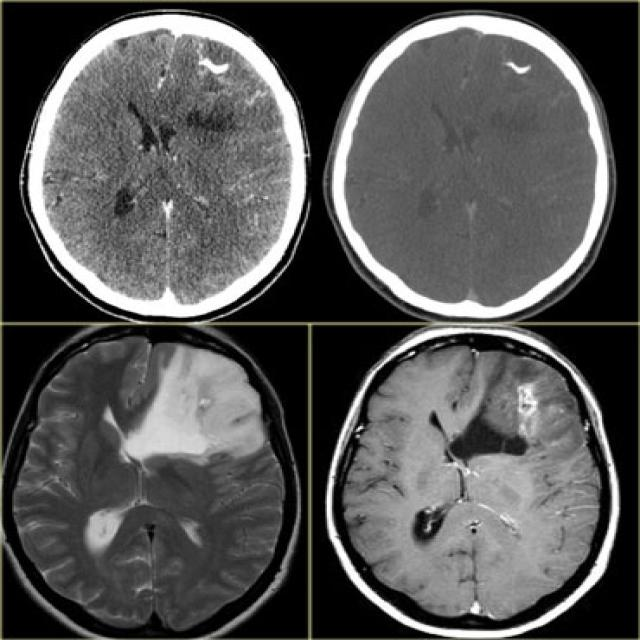Tumor: (129, 353, 263, 454), (515, 381, 542, 416), (200, 54, 234, 78), (504, 58, 536, 72)
